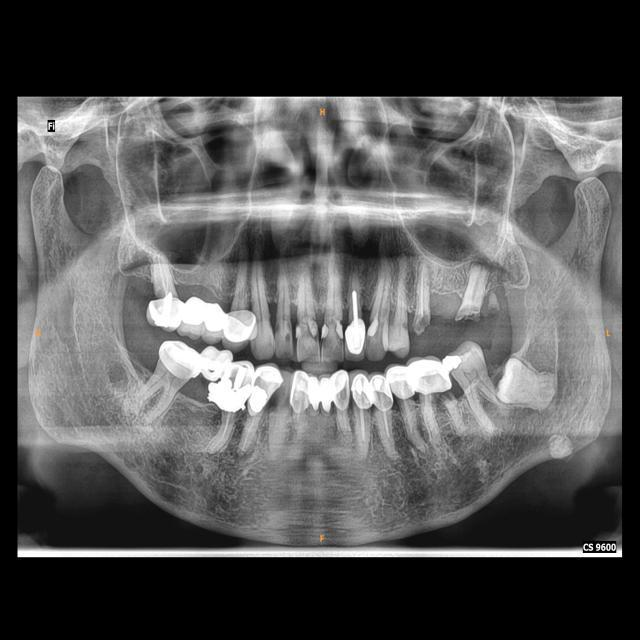dentin-curugu: (399, 318, 411, 334), (284, 330, 292, 344)
dolgu: (443, 350, 465, 373), (302, 316, 318, 344), (368, 314, 383, 342), (330, 318, 344, 340), (320, 322, 332, 339)
kanal-tedavisi: (235, 414, 260, 457), (213, 413, 233, 450), (374, 405, 392, 442), (354, 405, 369, 442), (416, 272, 428, 313), (348, 282, 360, 320), (155, 262, 170, 292)
kaplama: (216, 362, 258, 414), (246, 366, 286, 414), (159, 342, 202, 378), (142, 292, 182, 326), (409, 359, 449, 392), (227, 308, 254, 342), (388, 366, 415, 398), (349, 374, 374, 407), (371, 373, 393, 410), (343, 320, 366, 355), (332, 373, 352, 406), (290, 373, 308, 409)
kirik: (454, 303, 483, 327), (411, 312, 432, 336)
kopru: (195, 338, 237, 407), (176, 290, 230, 338), (307, 373, 334, 419)
